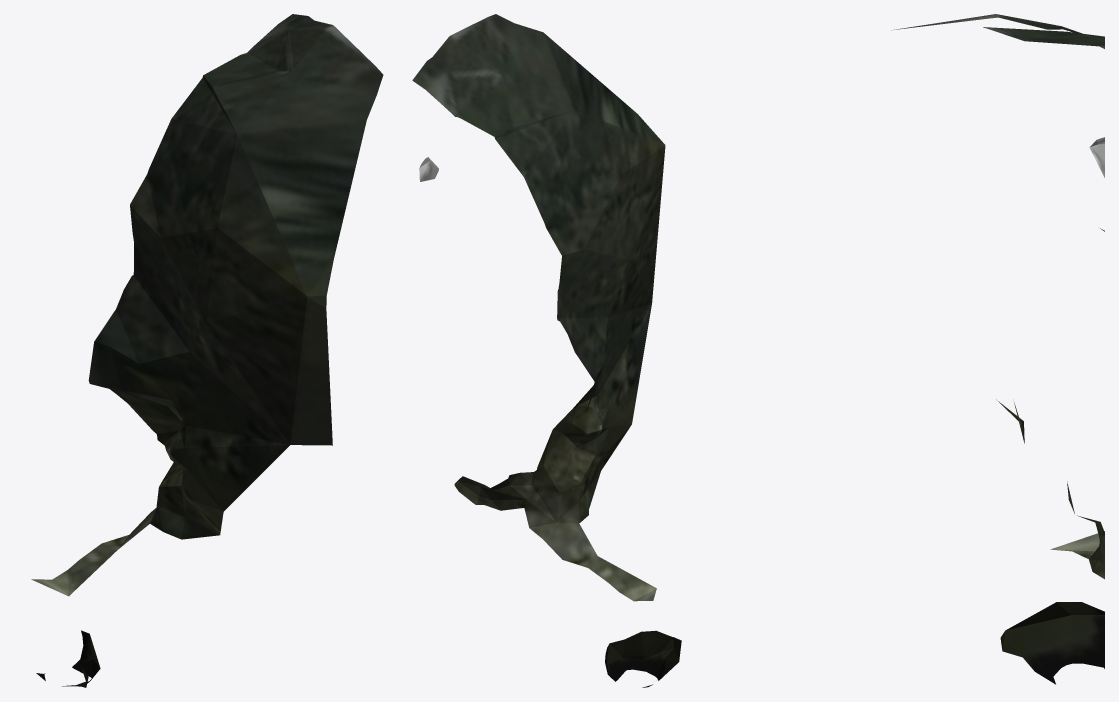
3 views of the same model, side by side, from view 1: azimuth 30°, elevation 25°; view 2: azimuth 150°, elevation 25°; view 3: azimuth 270°, elevation 25° (orthographic). The views are drawn at different scales.
Bounding box in the file's own units: 2.55 × 5.41 × 2.39.
1 material, 1 textured.
